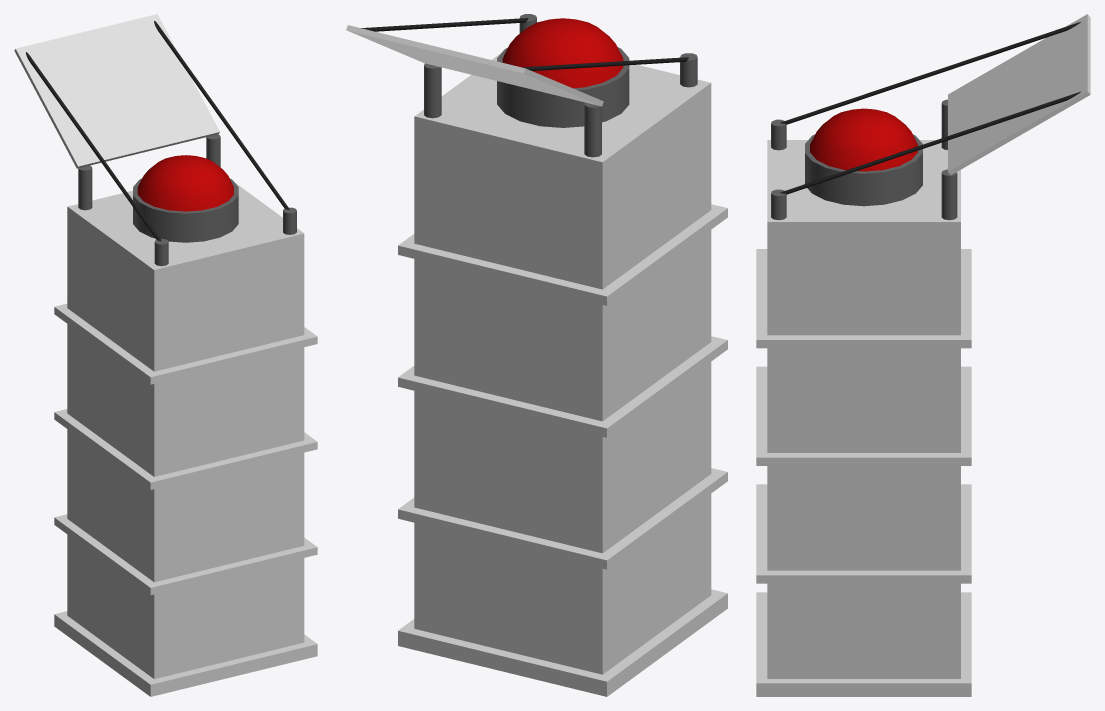
File: Button.FBX
The picture shows the model from 3 angles, left to right: view 1: azimuth 30°, elevation 25°; view 2: azimuth 150°, elevation 25°; view 3: azimuth 270°, elevation 25°; orthographic projection. The views are drawn at different scales.
Parts seen in each view (by area): view 1: Button_Destruction; view 2: Button_Destruction; view 3: Button_Destruction.
Boxes of the visible parts, left/top/right/bottom form: Button_Destruction: left=14, top=14, right=317, bottom=696; Button_Destruction: left=346, top=14, right=727, bottom=696; Button_Destruction: left=756, top=14, right=1090, bottom=696.
Bounding box in the file's own units: 0.358 × 1.1 × 0.5555.
